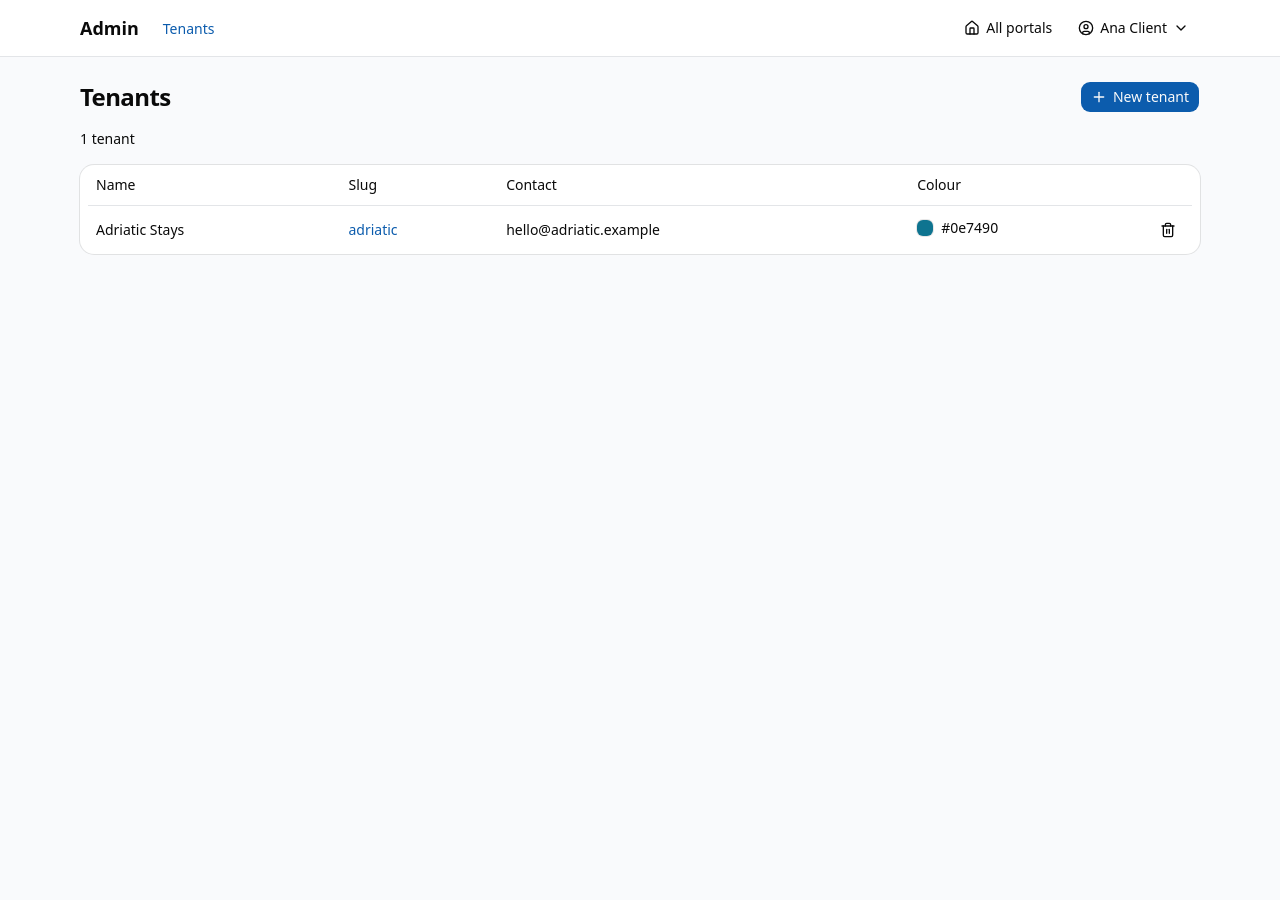
Test: AdminTenantsPage › sends nothing when the dialog is cancelled
Click the button named "Delete Adriatic Stays" at {"x": 1168, "y": 230}, box [1152,214,1184,246]
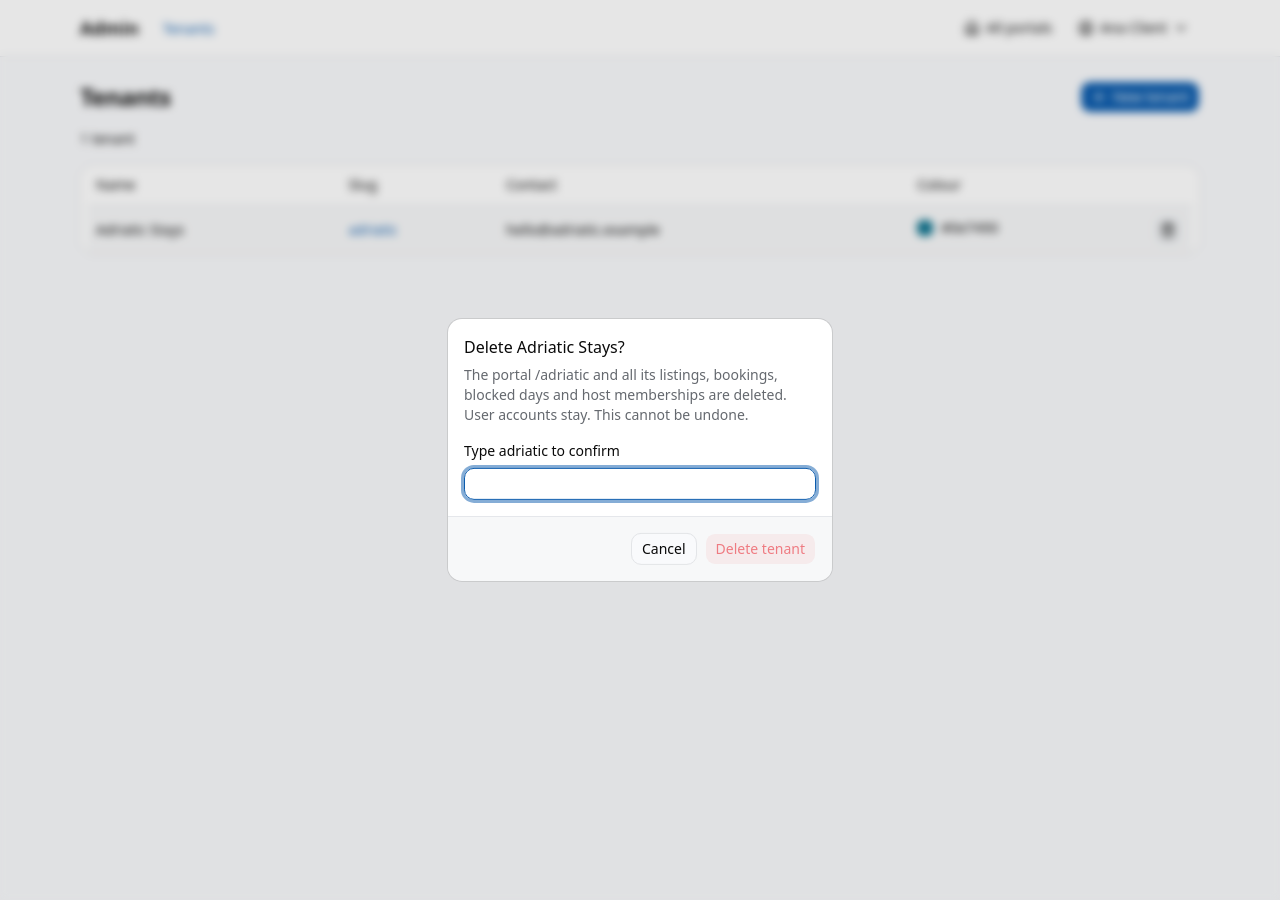
Click the button "Cancel" at {"x": 664, "y": 549}, box [631,533,697,565]
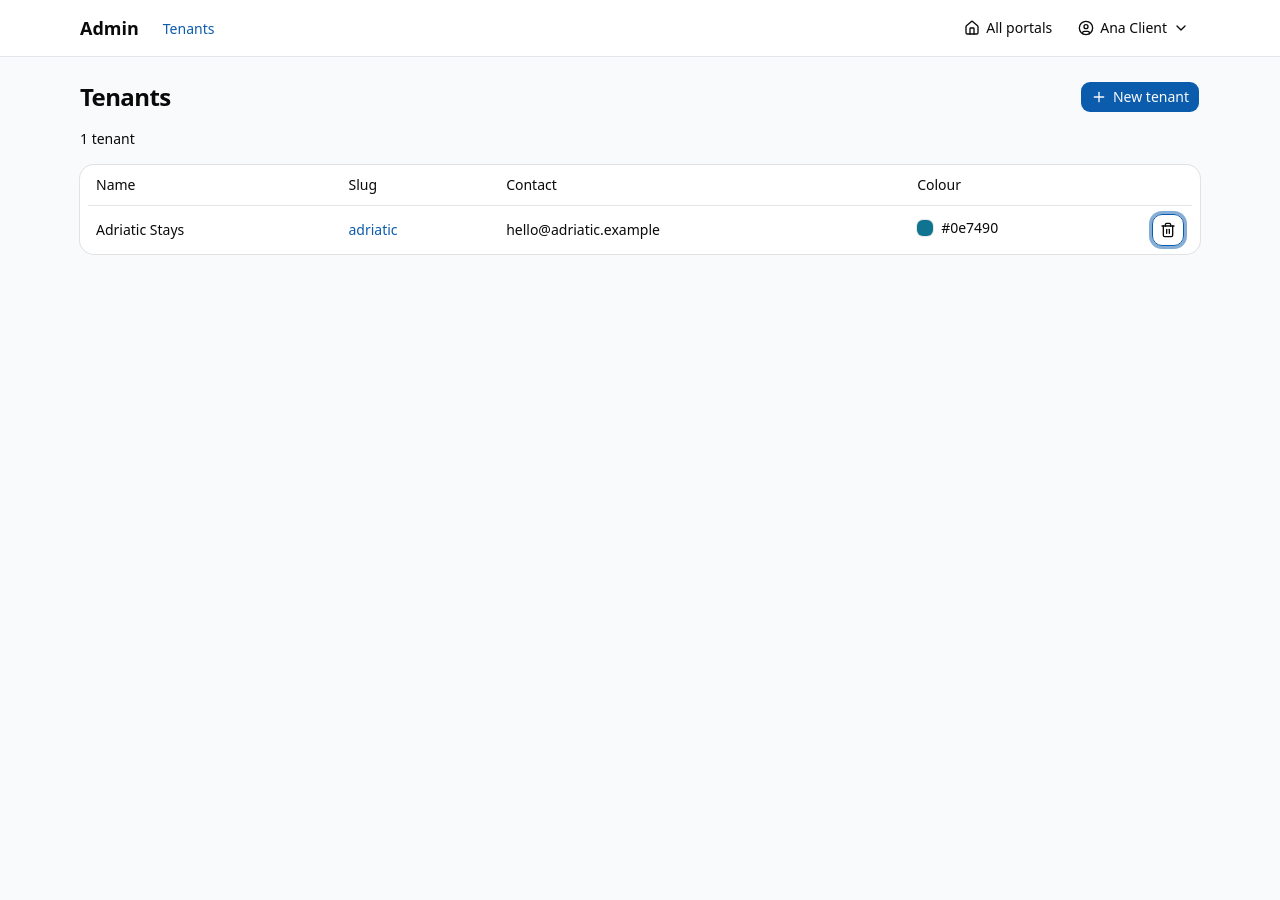
Expected: the link "Adriatic Stays" is shown, [96,220,184,238]
Now the dialog is gone
